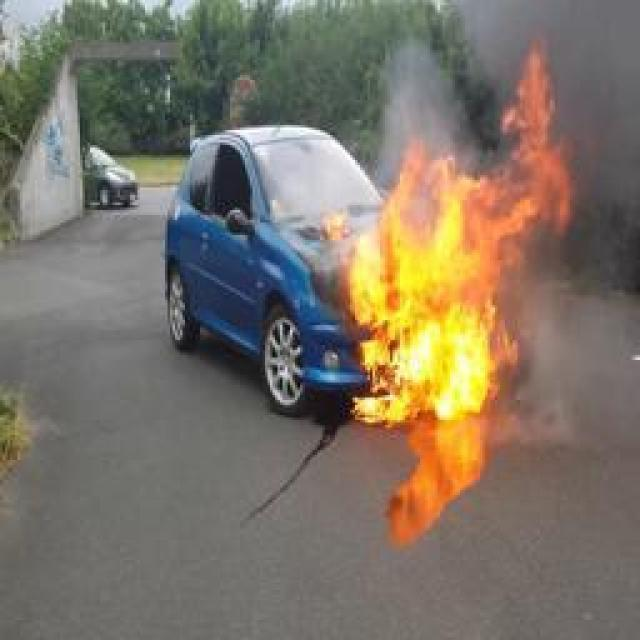Fire: (328, 40, 574, 428)
